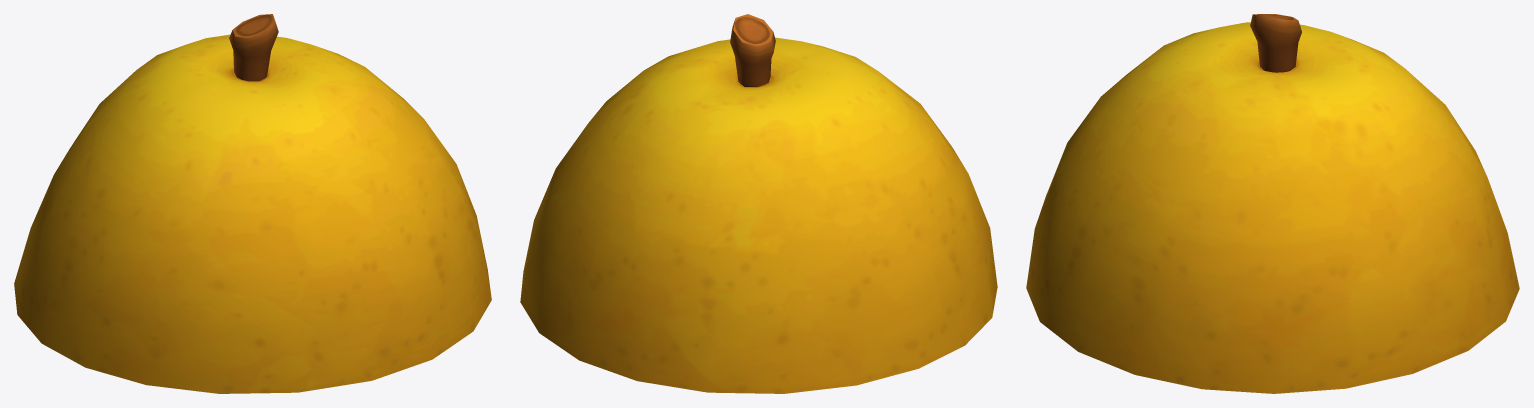
The model's file is SM_PassionFruitYellowCutTop.fbx.
The picture shows the model from 3 angles, left to right: view 1: azimuth 30°, elevation 25°; view 2: azimuth 150°, elevation 25°; view 3: azimuth 270°, elevation 25°; orthographic projection. The views are drawn at different scales.
Parts seen in each view (by area): view 1: SM_PassionFruitYellowCutTop; view 2: SM_PassionFruitYellowCutTop; view 3: SM_PassionFruitYellowCutTop.
Part boxes in pixels (x1,y1,x2,y2): SM_PassionFruitYellowCutTop: [14, 14, 491, 393]; SM_PassionFruitYellowCutTop: [520, 14, 997, 393]; SM_PassionFruitYellowCutTop: [1026, 14, 1519, 393].
Size of the model in its own units: 11.31 by 7.03 by 11.18.
